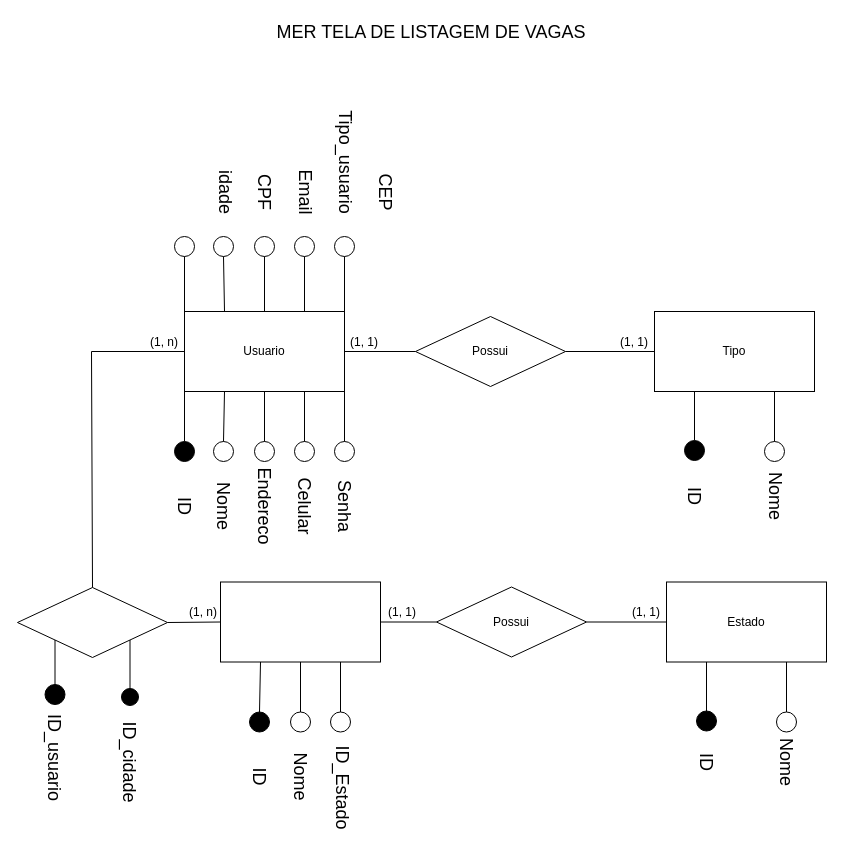
Some shapes in this 844 by 847 pixel diagram are drawn without their labels. Each missing label, with the box of its shape:
Cidade: (220, 581, 380, 662)
Cidades_usuarios: (16, 586, 168, 658)
